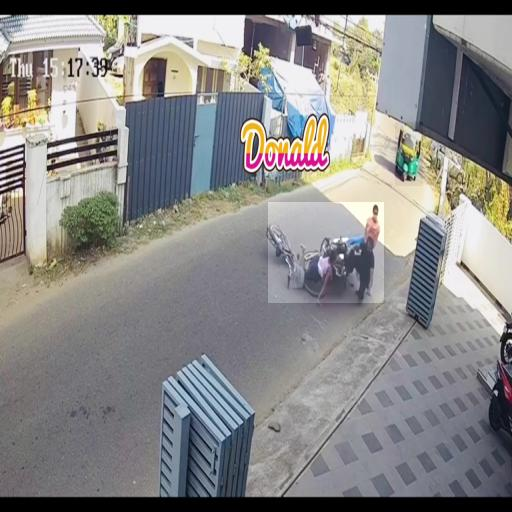小汽车: (395, 122, 423, 186)
自行车撞自行车: (268, 202, 384, 303)
